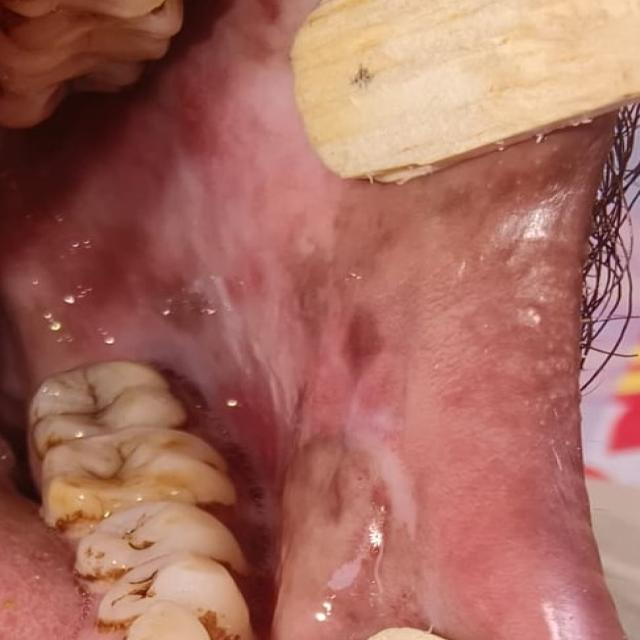leukoplakia-like-detection: (64, 135, 445, 632)
processing_area: (3, 1, 609, 639)
